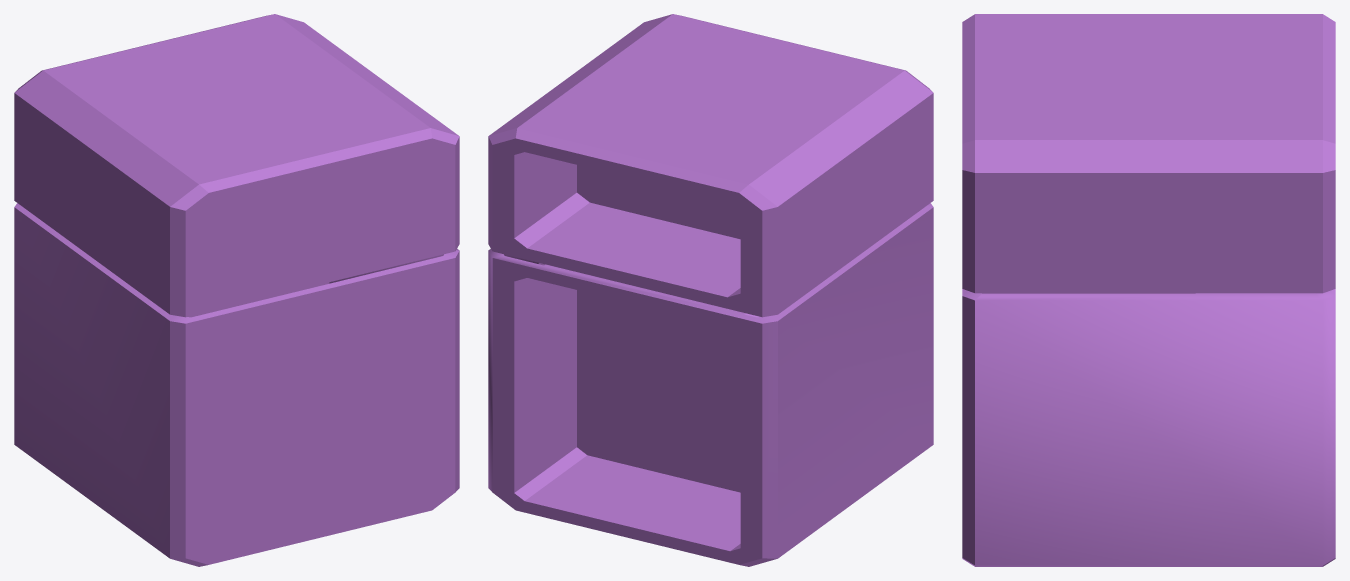
The model's file is cabinetBedDrawer.glb.
3 renders of one model, left to right at view 1: azimuth 30°, elevation 25°; view 2: azimuth 150°, elevation 25°; view 3: azimuth 270°, elevation 25°, orthographic. The views are drawn at different scales.
Visible parts, largest first — view 1: cabinetBedDrawer; view 2: cabinetBedDrawer; view 3: cabinetBedDrawer.
Boxes of the visible parts, x1=… form: cabinetBedDrawer: x1=14, y1=14, x2=459, y2=566; cabinetBedDrawer: x1=488, y1=14, x2=933, y2=566; cabinetBedDrawer: x1=962, y1=14, x2=1335, y2=566.
Bounding box in the file's own units: 0.3804 × 0.4801 × 0.3804.
